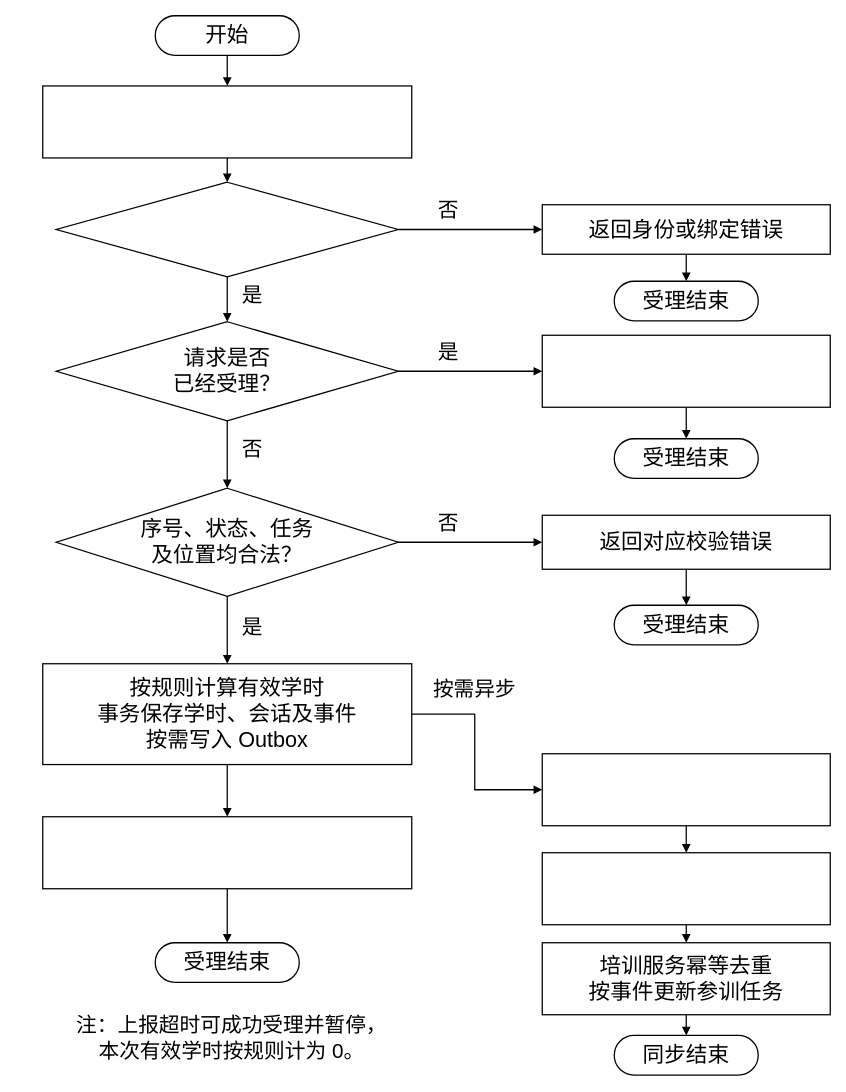
Some shapes in this 846 by 1092 pixel diagram are drawn without their labels. Here are the shapes that lost their labels. From the top down, the centre of each, then its label:
[227,121]: 学员发送进度消息 核验身份与会话绑定
[226,229]: 身份与绑定 是否合法？
[685,370]: 返回历史确认结果 （ACK 与确认学时）
[685,789]: 读取已提交的 待发送任务 Outbox
[227,852]: 返回 ACK 与确认学时 （无须等待异步结果）
[685,888]: RabbitMQ 至少一次投递 失败按策略重试
